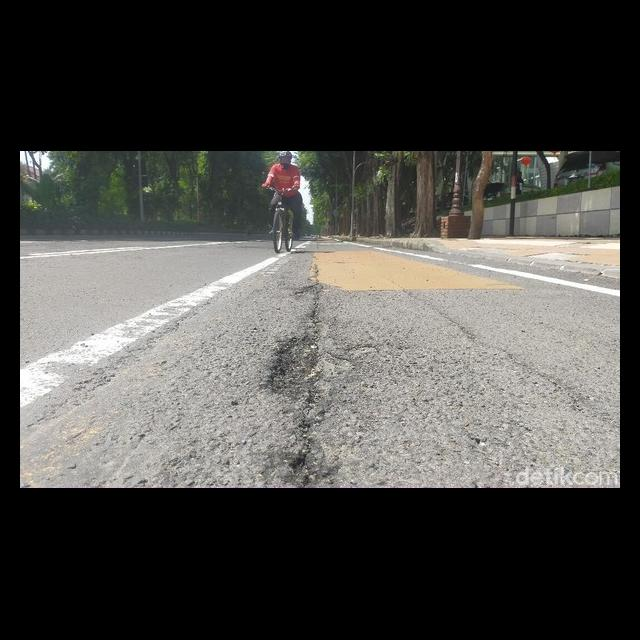lubang_kecil: (417, 292, 579, 411), (254, 327, 342, 417)
retak_memanjang: (267, 266, 336, 488)
